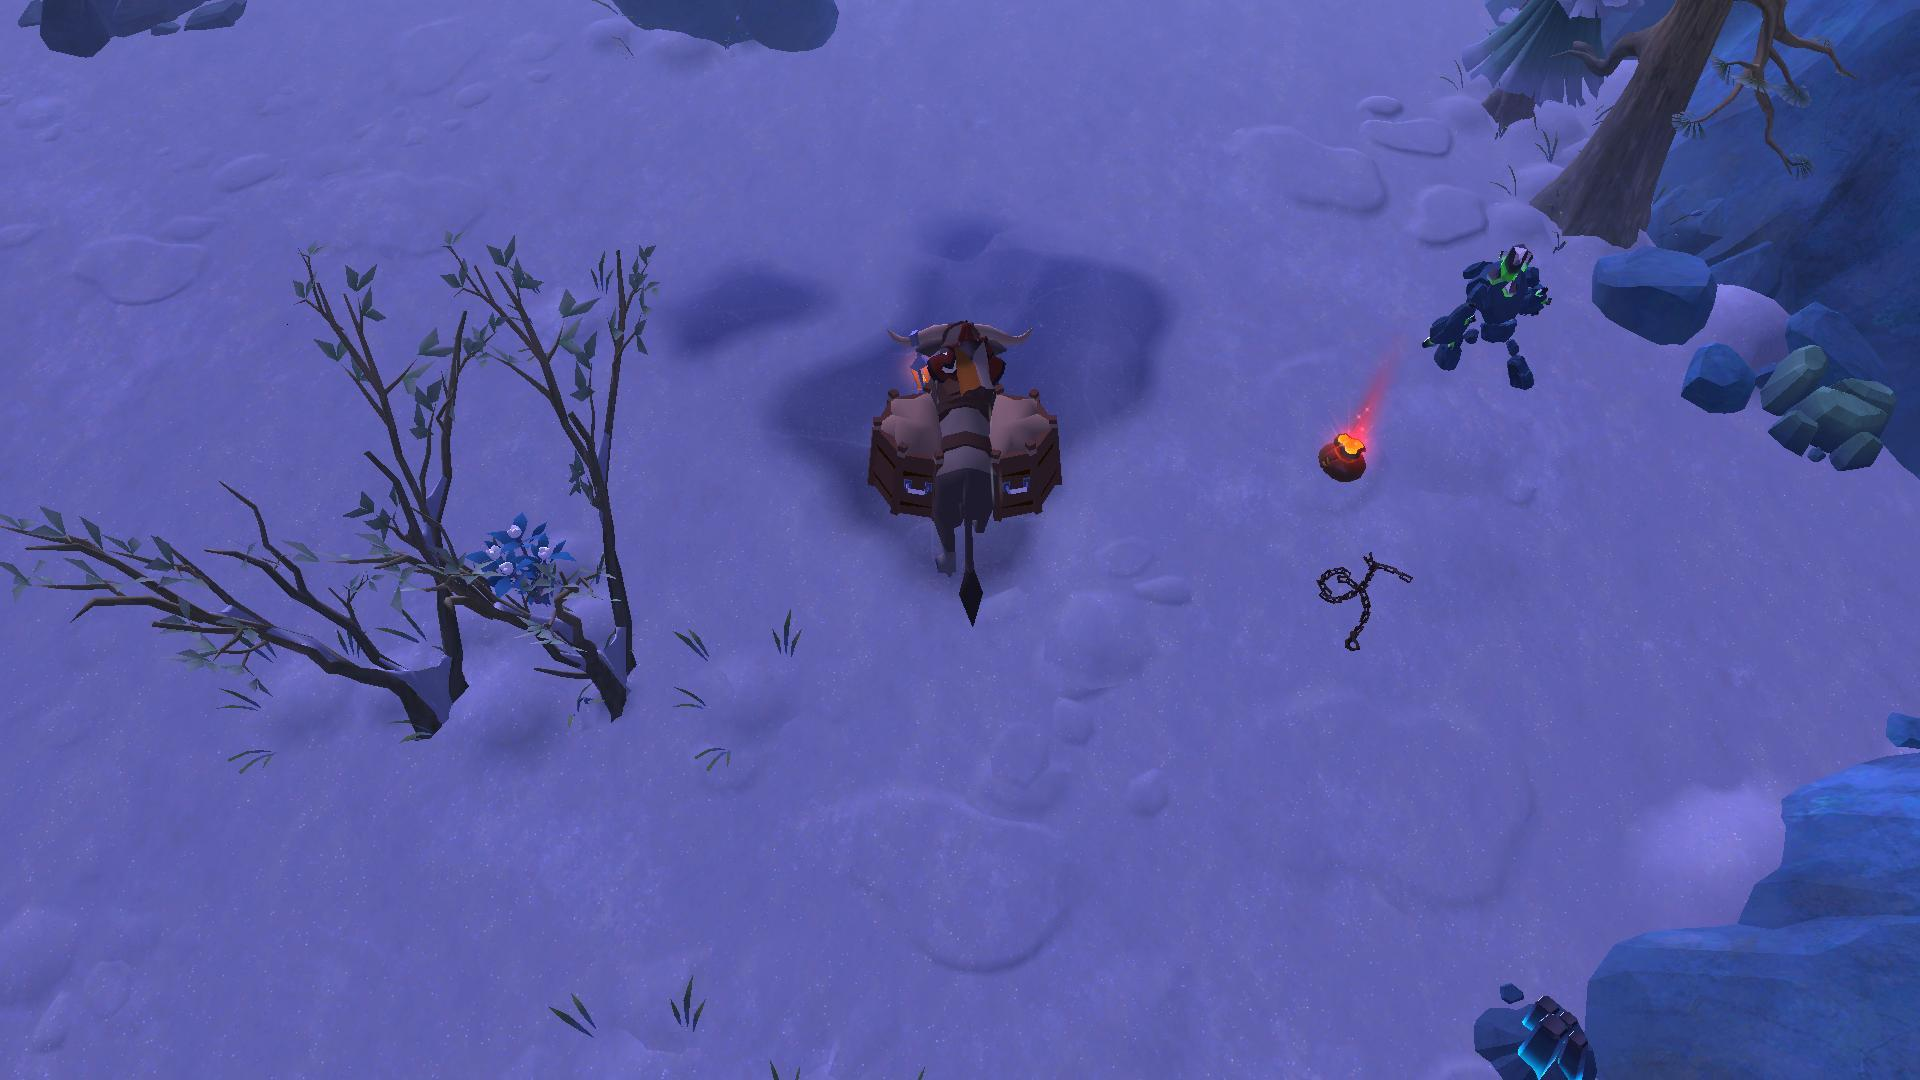fiber_t4: (458, 514, 572, 605)
ore_t4: (1513, 986, 1586, 1076)
rock_t3: (1753, 338, 1903, 477)
